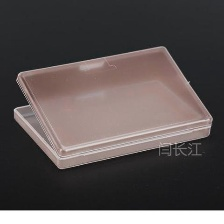plastic_box: (6, 39, 218, 174)
